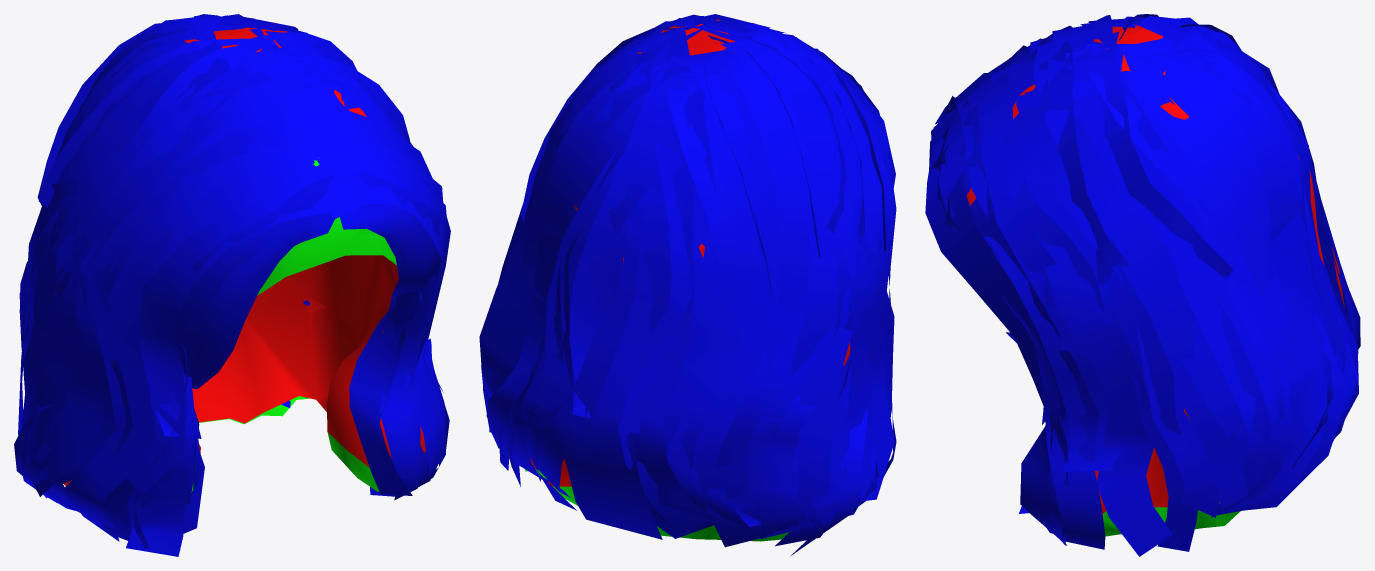
File: hair_008.obj
The picture shows the model from 3 angles, left to right: view 1: azimuth 30°, elevation 25°; view 2: azimuth 150°, elevation 25°; view 3: azimuth 270°, elevation 25°; orthographic projection. The views are drawn at different scales.
Size of the model in its own units: 24.6 by 29.93 by 26.07.
